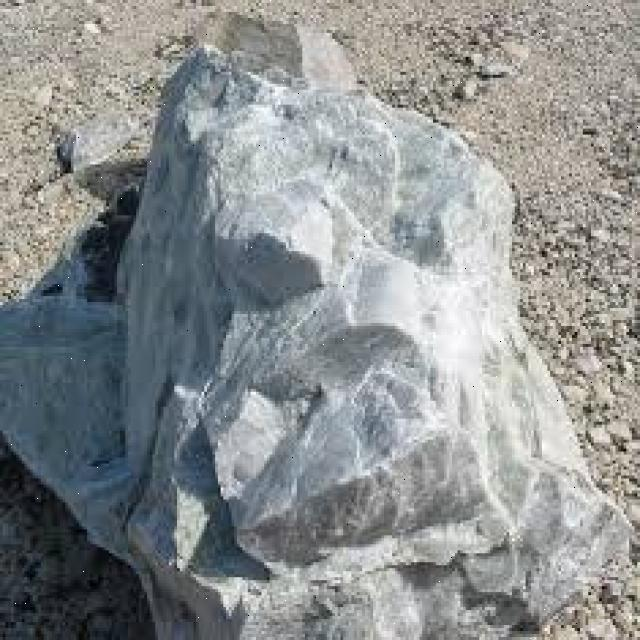Metamorphic: (2, 39, 624, 637)
